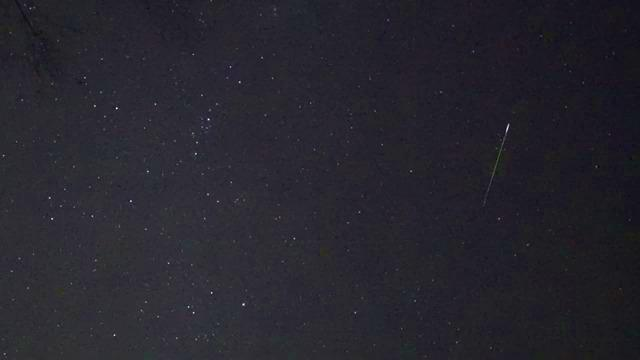meteorite: (464, 116, 521, 211)
